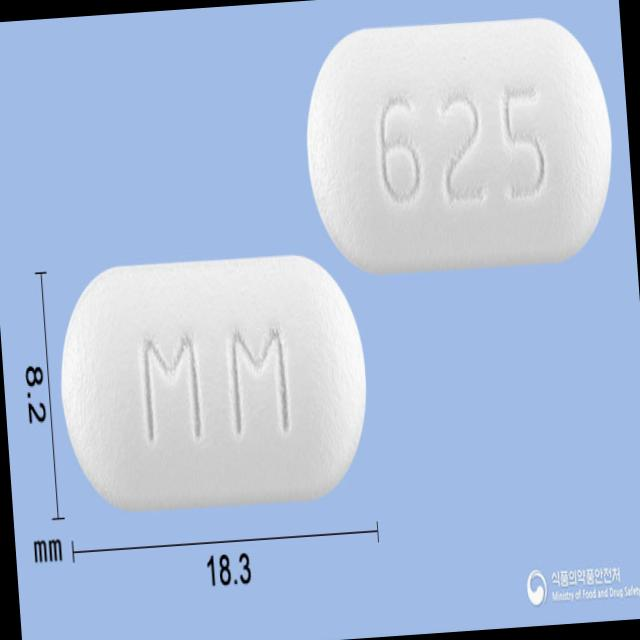Myungmoon Amoclan Tab: (52, 248, 375, 516), (300, 10, 621, 274)
